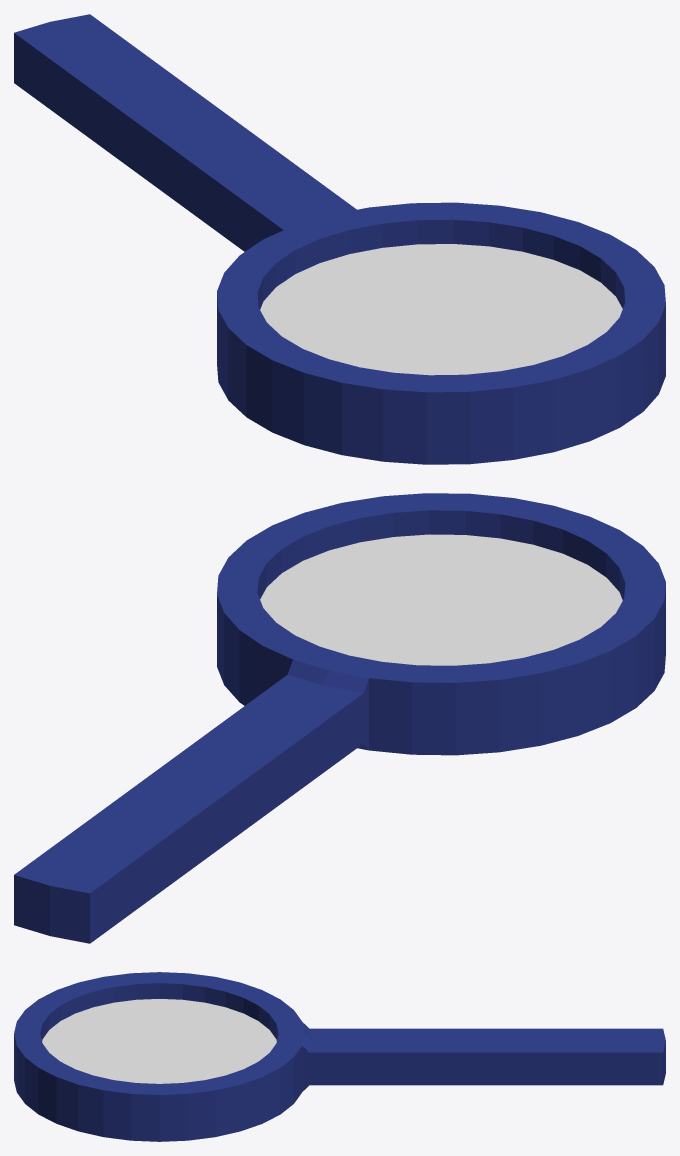
Rendered from B_HW_25_spy_magnifier.fbx.
3 views of the same model, one above another, from view 1: azimuth 30°, elevation 25°; view 2: azimuth 150°, elevation 25°; view 3: azimuth 270°, elevation 25° (orthographic). The views are drawn at different scales.
Parts seen in each view (by area): view 1: Cylinder; view 2: Cylinder; view 3: Cylinder.
Part boxes in pixels (x1,y1,x2,y2): Cylinder: [14, 14, 665, 464]; Cylinder: [14, 493, 665, 943]; Cylinder: [14, 972, 665, 1141].
Bounding box in the file's own units: 110 × 19.5 × 246.
